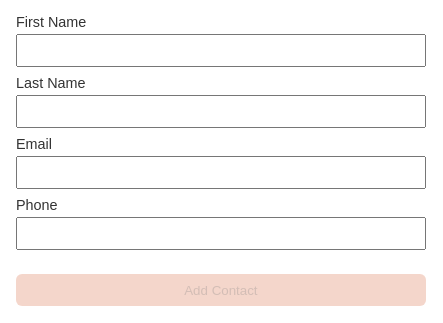
Scenario: MyForm component › Button enabled if no fields are empty
In the field labelled "First Name": (221, 50) [16,34,426,67], type "Patrick"
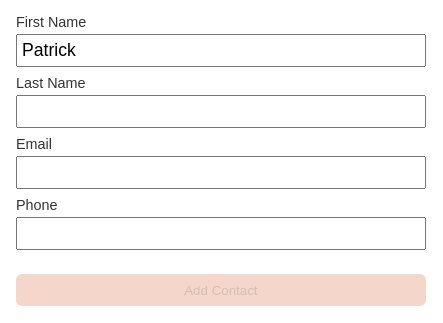
In the field labelled "Last Name": (221, 112) [16,95,426,128], type "McCullough"
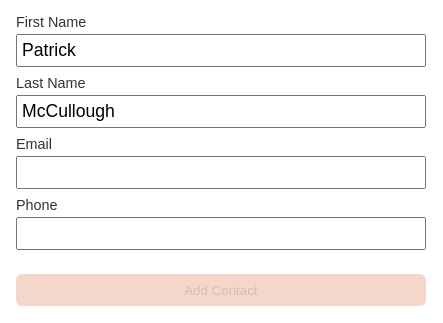
In the field labelled "Email": (221, 172) [16,156,426,189], type "pmccullough@brainstation.io"
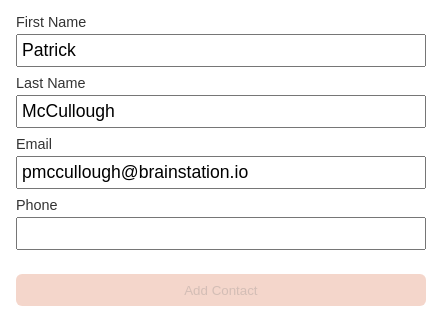
In the field labelled "Phone": (221, 234) [16,217,426,250], type "(917) 224-2246"
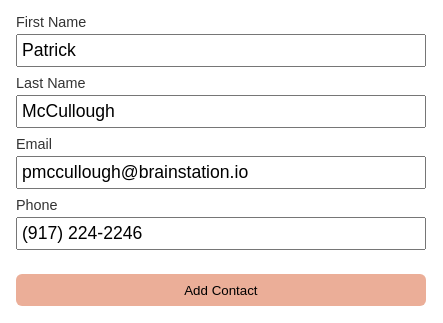
Result: the button "Add Contact" is enabled at [16,274,426,306]
